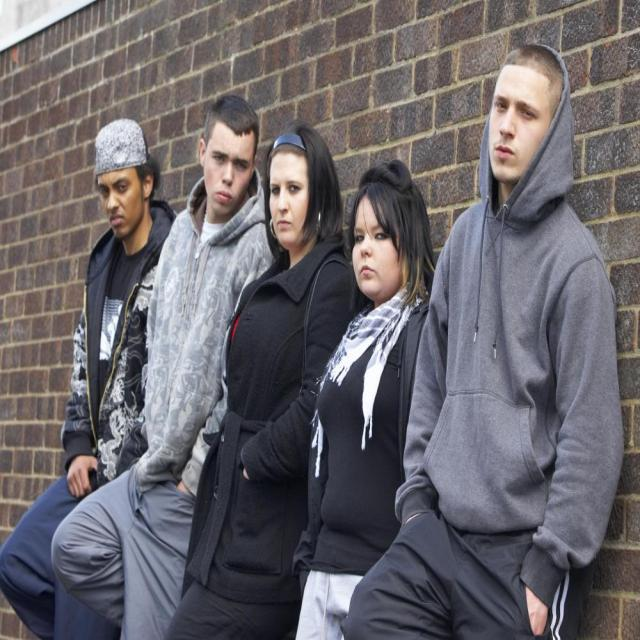human: (396, 16, 640, 640), (188, 118, 355, 638), (8, 104, 152, 640), (290, 154, 448, 640), (123, 82, 260, 627)
loitering: (343, 34, 623, 640), (64, 85, 261, 640), (280, 132, 470, 640), (165, 123, 349, 640), (52, 109, 173, 640)
